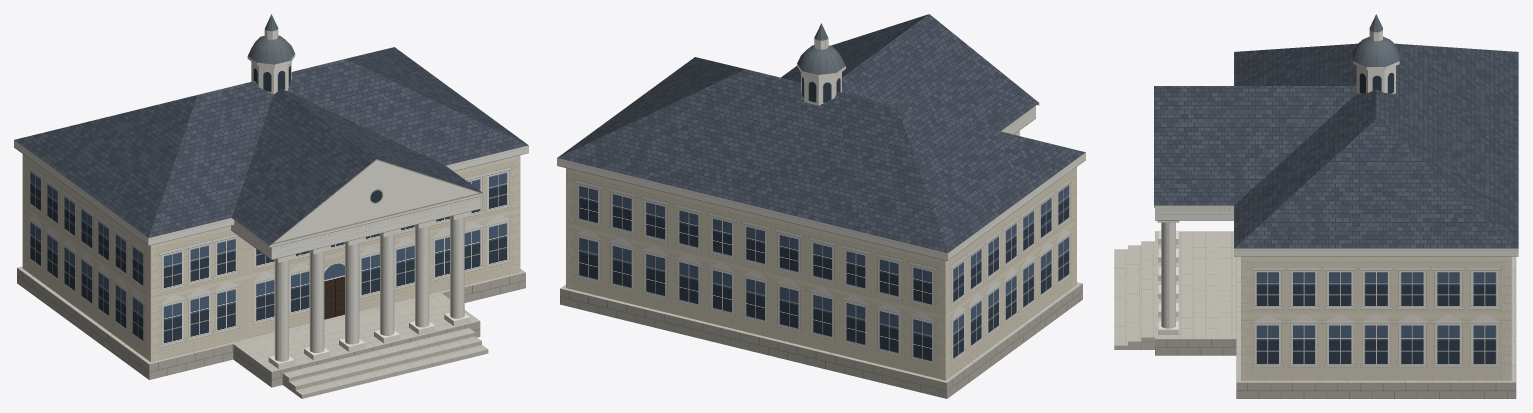
File: capitol.glb
3 views of the same model, side by side, from view 1: azimuth 30°, elevation 25°; view 2: azimuth 150°, elevation 25°; view 3: azimuth 270°, elevation 25° (orthographic). The views are drawn at different scales.
Visible parts, largest first — view 1: Capitol; view 2: Capitol; view 3: Capitol.
Part boxes in pixels (<box>): Capitol: <box>14,14,528,398</box>; Capitol: <box>557,14,1085,398</box>; Capitol: <box>1114,14,1518,398</box>.
Bounding box in the file's own units: 20.6 × 14.06 × 17.9.
Materials: 1 (1 with a texture image).
